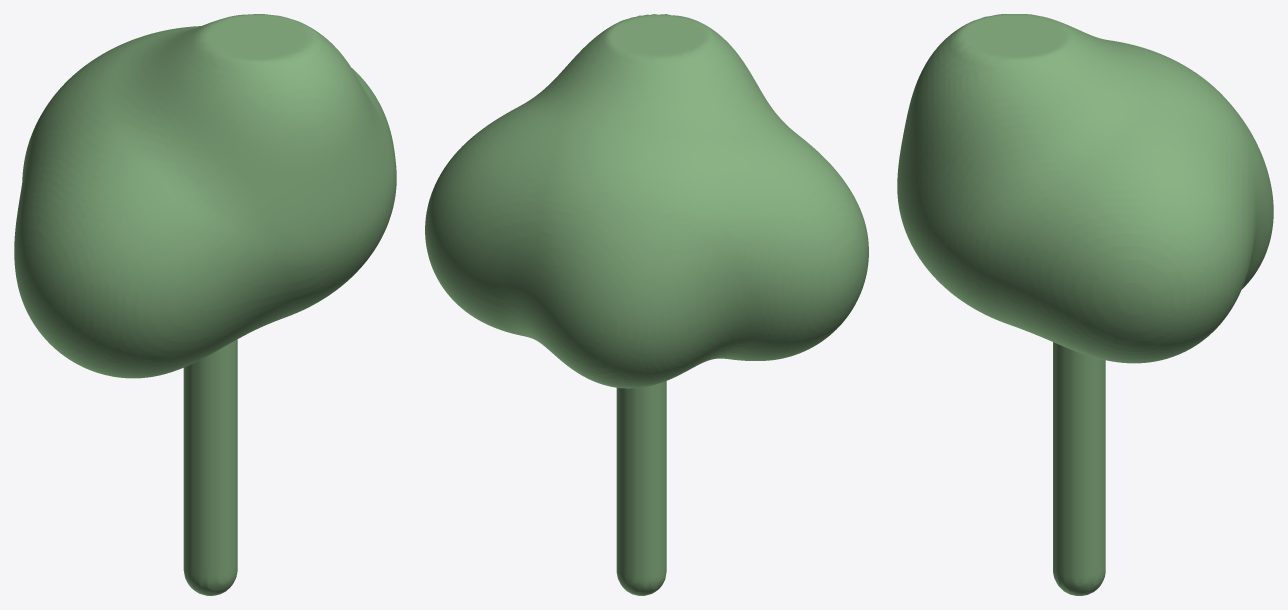
File: broadleaf.glb
The picture shows the model from 3 angles, left to right: view 1: azimuth 30°, elevation 25°; view 2: azimuth 150°, elevation 25°; view 3: azimuth 270°, elevation 25°; orthographic projection. The views are drawn at different scales.
Visible parts, largest first — view 1: broadleaf; view 2: broadleaf; view 3: broadleaf.
Part boxes in pixels (<box>): broadleaf: <box>14,14,396,595</box>; broadleaf: <box>425,14,868,595</box>; broadleaf: <box>897,14,1273,595</box>.
Size of the model in its own units: 2.7 by 3.75 by 2.27.
